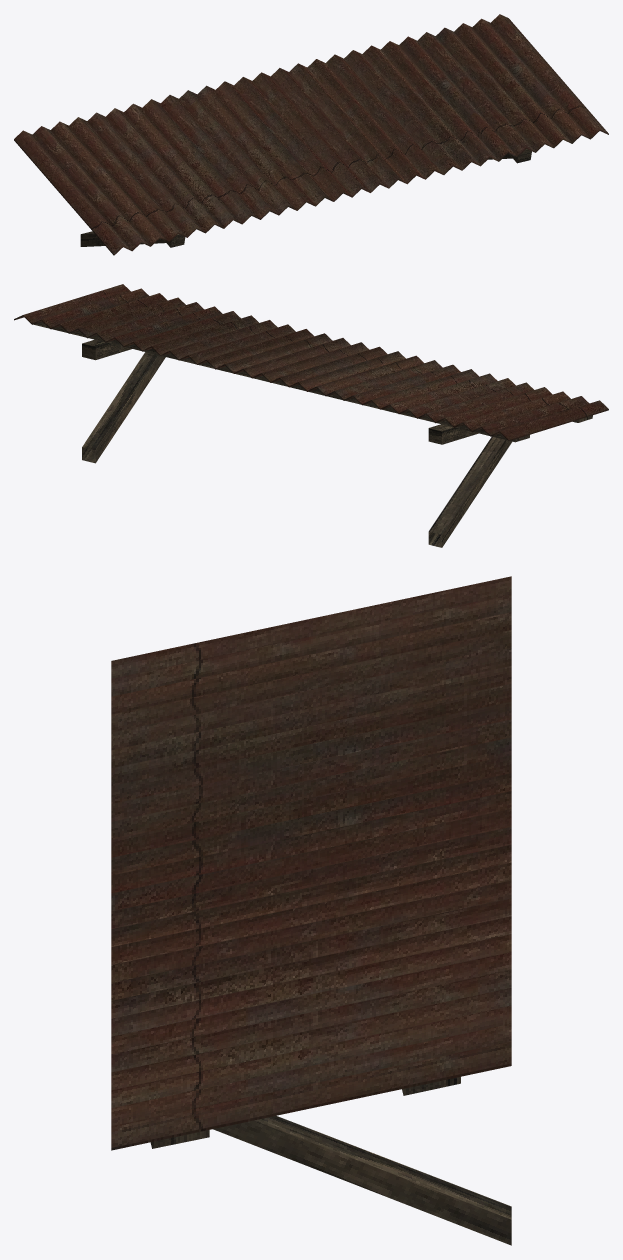
File: roof_small_hr_1.glb
The picture shows the model from 3 angles, top to bottom: view 1: azimuth 30°, elevation 25°; view 2: azimuth 150°, elevation 25°; view 3: azimuth 270°, elevation 25°; orthographic projection. The views are drawn at different scales.
Visible parts, largest first — view 1: roof_small_hr_1; view 2: roof_small_hr_1; view 3: roof_small_hr_1.
Part boxes in pixels (x1=…): roof_small_hr_1: x1=14, y1=14, x2=608, y2=255; roof_small_hr_1: x1=14, y1=284, x2=608, y2=547; roof_small_hr_1: x1=111, y1=576, x2=511, y2=1245.
Bounding box in the file's own units: 4 × 1.01 × 1.4.
Materials: 2 (2 with a texture image).
